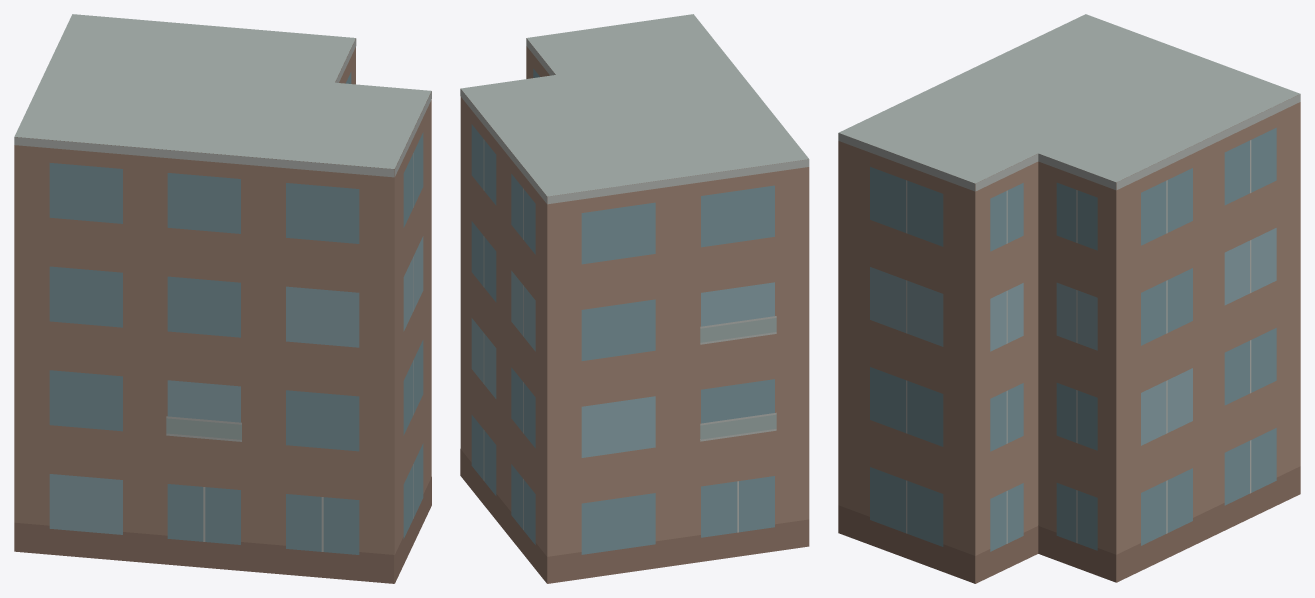
File: residential-c49fb4ef-cbde-41a5-aef3-60542526bfde.glb
3 views of the same model, side by side, from view 1: azimuth 30°, elevation 25°; view 2: azimuth 150°, elevation 25°; view 3: azimuth 270°, elevation 25° (orthographic). The views are drawn at different scales.
Visible parts, largest first — view 1: residential-c49fb4ef-cbde-41a5-aef3-60542526bfde.tmp; view 2: residential-c49fb4ef-cbde-41a5-aef3-60542526bfde.tmp; view 3: residential-c49fb4ef-cbde-41a5-aef3-60542526bfde.tmp.
Part boxes in pixels (x1,y1,x2,y2): residential-c49fb4ef-cbde-41a5-aef3-60542526bfde.tmp: [14, 14, 431, 583]; residential-c49fb4ef-cbde-41a5-aef3-60542526bfde.tmp: [460, 14, 809, 583]; residential-c49fb4ef-cbde-41a5-aef3-60542526bfde.tmp: [838, 14, 1300, 583].
Size of the model in its own units: 11.1 by 12.2 by 12.78.
